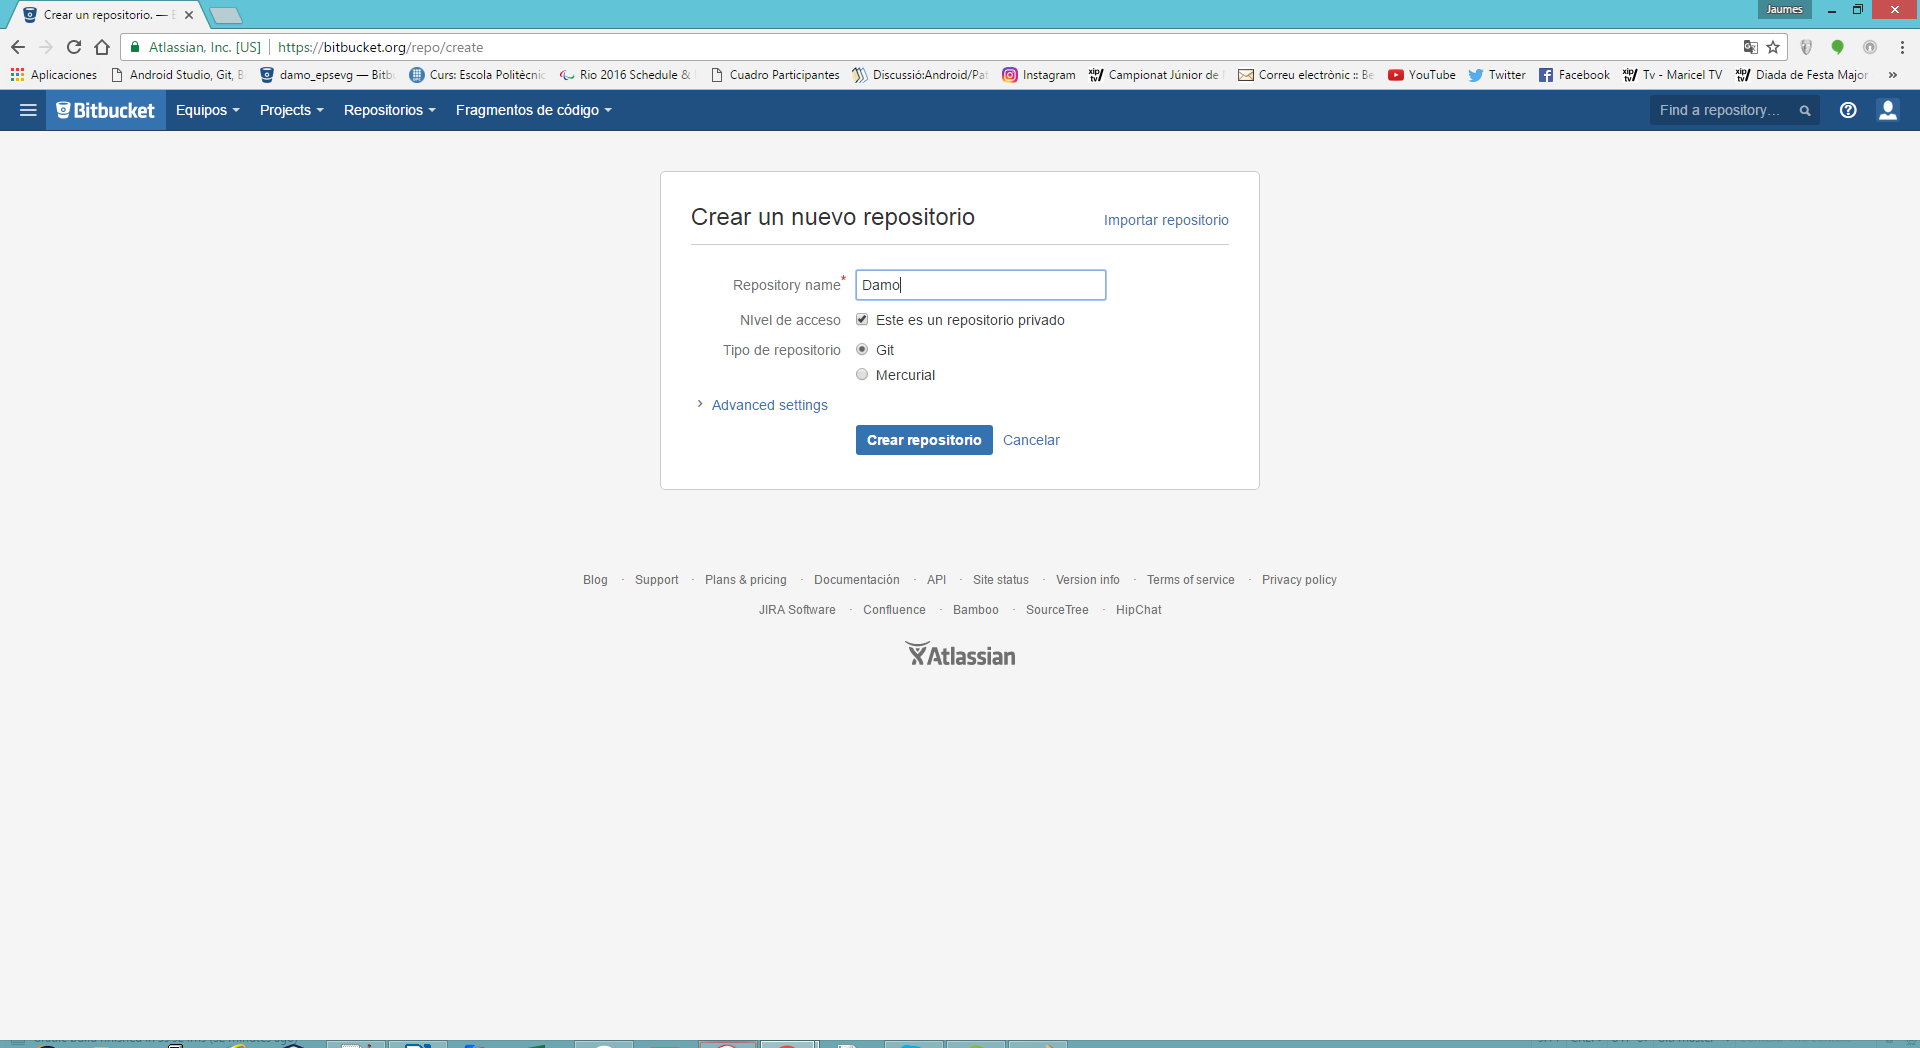button: (450, 92, 615, 132), (18, 1, 209, 31), (46, 92, 165, 132), (335, 92, 449, 132), (855, 425, 994, 456), (253, 59, 401, 88), (550, 63, 705, 89), (106, 61, 253, 88), (401, 62, 551, 88), (844, 62, 994, 88), (123, 35, 268, 59), (250, 89, 334, 132), (1080, 63, 1230, 86), (166, 90, 250, 132), (1728, 63, 1875, 86), (705, 63, 843, 88), (1230, 65, 1381, 86), (692, 394, 832, 416), (1099, 209, 1234, 230), (3, 61, 105, 88), (1615, 63, 1728, 88), (1145, 569, 1241, 595), (699, 568, 792, 594), (1257, 569, 1341, 598), (810, 569, 905, 594), (754, 598, 843, 623), (994, 63, 1080, 86), (855, 598, 933, 623), (1534, 63, 1614, 88), (1052, 569, 1126, 595), (1019, 600, 1095, 625), (1381, 63, 1461, 86), (1461, 63, 1534, 88), (969, 570, 1037, 592), (948, 598, 1006, 623), (1111, 600, 1166, 626), (1000, 430, 1065, 450), (630, 568, 684, 592), (9, 92, 45, 128), (206, 3, 250, 28), (1871, 96, 1907, 126), (1874, 1, 1920, 25), (1855, 32, 1886, 63), (1821, 32, 1853, 62), (1759, 1, 1813, 18), (577, 567, 613, 591), (1834, 96, 1863, 125), (1889, 32, 1916, 63), (59, 35, 90, 59), (1794, 32, 1819, 61), (30, 35, 59, 59), (4, 34, 31, 59), (90, 34, 116, 61), (923, 570, 954, 592), (1739, 34, 1764, 59), (1794, 97, 1818, 123), (1764, 34, 1787, 59), (1844, 1, 1872, 22), (1879, 66, 1906, 86), (178, 3, 201, 26), (1819, 1, 1843, 19), (855, 367, 868, 379), (855, 314, 868, 325), (855, 342, 868, 354)
common: (717, 336, 843, 364), (726, 271, 850, 296), (735, 310, 843, 332), (876, 369, 935, 381), (875, 343, 895, 356)
container: (1, 132, 1920, 1043), (658, 172, 1263, 494), (1, 1, 1920, 90), (575, 563, 1346, 679), (1, 90, 1920, 132), (852, 307, 1076, 333), (852, 360, 939, 385), (852, 338, 901, 359)
header: (686, 199, 979, 239), (41, 3, 154, 26)
image: (899, 634, 1025, 675), (18, 4, 43, 28)
text-input: (271, 32, 1739, 59), (857, 272, 1106, 299), (1653, 97, 1794, 123)
